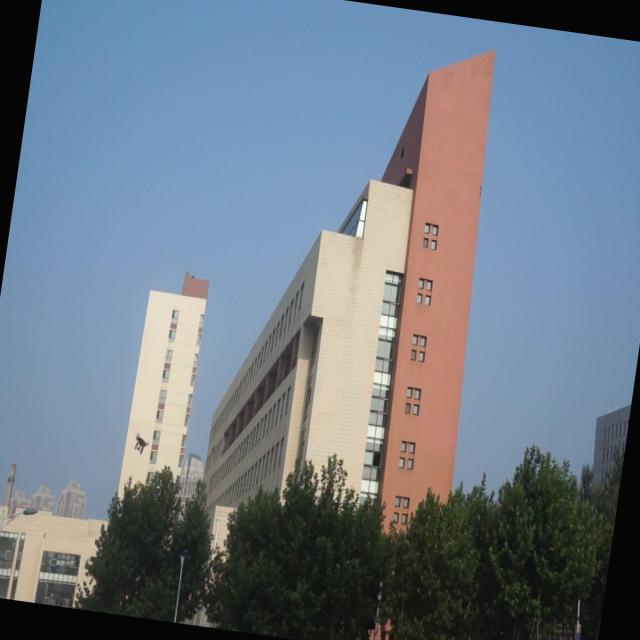drone: (132, 428, 152, 456)
